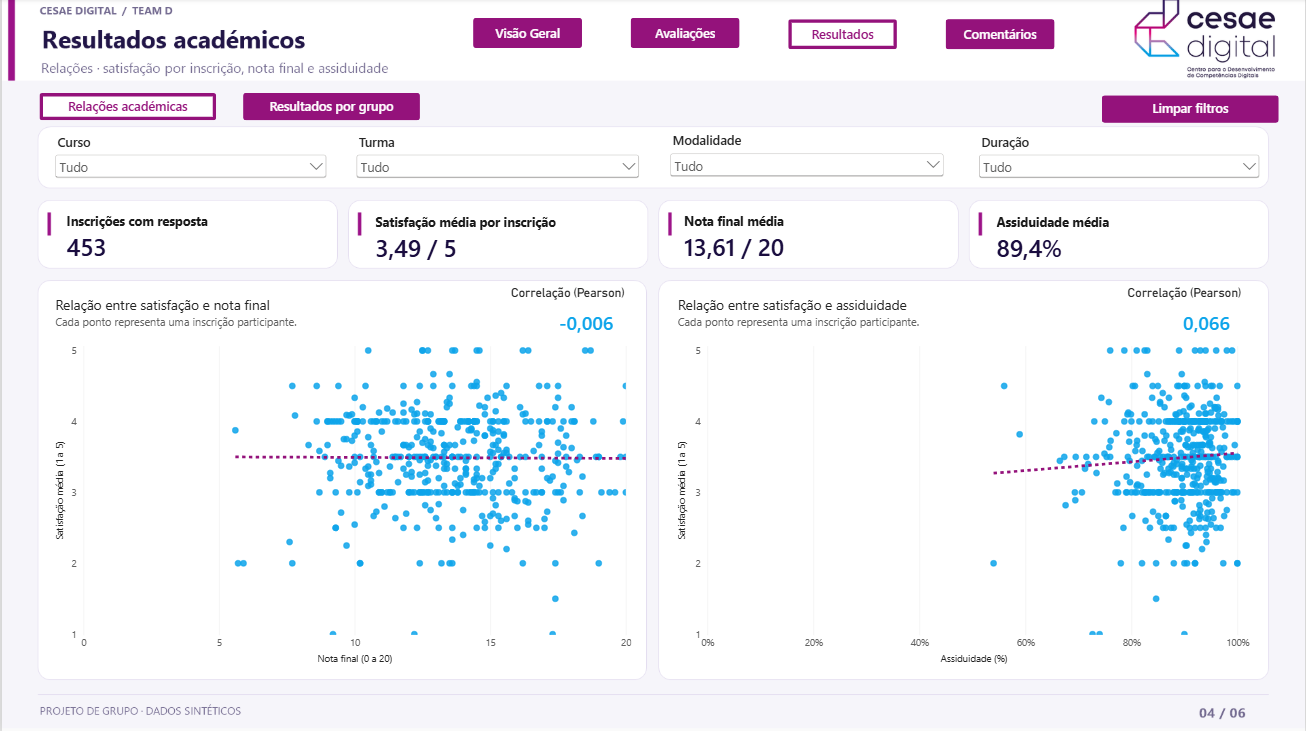

This screenshot's page, from the dashboard's own definition file:
{"tool":"powerbi","page":{"name":"Resultados académicos - Relações","canvas":[1920,1080],"ordinal":3},"visuals":[{"type":"cardVisual","fields":{"Data":["_Medidas_FInscricoes.NInscricoesParticipantes"]},"box":[80,314.3,393.3,76.7],"z":0},{"type":"cardVisual","fields":{"Data":["_Medidas_FInscricoes.SatisfacaoPorInscricao"]},"box":[532.9,315.7,393.3,76.7],"z":1000},{"type":"cardVisual","fields":{"Data":["_Medidas_FInscricoes.NotaFinalMedia"]},"box":[988.6,314.3,392.9,77.1],"z":2000},{"type":"cardVisual","fields":{"Data":["_Medidas_FInscricoes.AssiduidadeMedia"]},"box":[1448.6,317.1,393.3,76.7],"z":3000},{"type":"scatterChart","title":"Relação entre satisfação e nota final","fields":{"Category":["fInscricoes.IDInscrito"],"X":["Sum(fInscricoes.NotaFinal)"],"Y":["Sum(fInscricoes.SatisfacaoInscricao)"]},"box":[62.9,422.9,880,572.9],"z":4000},{"type":"cardVisual","title":"Correlação (Pearson)","fields":{"Data":["_Medidas_FInscricoes.PearsonNota"]},"box":[665.7,422.9,250,70],"z":5000},{"type":"scatterChart","title":"Relação entre satisfação e assiduidade","fields":{"Category":["fInscricoes.IDInscrito"],"X":["Sum(fInscricoes.AssiduidadeGlobal)"],"Y":["Sum(fInscricoes.SatisfacaoInscricao)"]},"box":[978.6,422.9,878.6,572.9],"z":6000},{"type":"cardVisual","title":"Correlação (Pearson)","fields":{"Data":["_Medidas_FInscricoes.PearsonAssiduidade"]},"box":[1580,422.9,245,69.6],"z":7000},{"type":"slicer","fields":{"Values":["dTurma.Curso"]},"box":[72.9,198.6,409,69.5],"z":8000},{"type":"slicer","title":"Duração","fields":{"Values":["dTurma.Categoria_Duracao"]},"box":[1434.3,198.6,422.9,69.5],"z":9000},{"type":"slicer","fields":{"Values":["dTurma.Modalidade"]},"box":[978.6,197.1,412.1,67.9],"z":10000},{"type":"actionButton","title":"Limpar filtros","box":[1620,144,260,40],"z":11000},{"type":"slicer","fields":{"Values":["dTurma.Turma"]},"box":[517.1,198.6,426,67.9],"z":12000},{"type":"actionButton","box":[694.1,30,160,44],"z":13000},{"type":"actionButton","box":[926.3,30,160,44],"z":14000},{"type":"actionButton","box":[1158.2,30.8,160,44],"z":15000},{"type":"actionButton","box":[1389.8,30.8,160,44],"z":16000},{"type":"actionButton","title":"Limpar filtros","box":[355,140,260,40],"z":17000},{"type":"actionButton","box":[55,140,260,40],"z":18000}]}

Visuals, with their boxes in screenshot pixels (x1, y1, x2, y2), scaled from the page's 1920x1080 canvas onto the 1306x731 screenshot:
cardVisual - _Medidas_FInscricoes.NInscricoesParticipantes: [x1=54, y1=213, x2=322, y2=265]
cardVisual - _Medidas_FInscricoes.SatisfacaoPorInscricao: [x1=362, y1=214, x2=630, y2=266]
cardVisual - _Medidas_FInscricoes.NotaFinalMedia: [x1=672, y1=213, x2=940, y2=265]
cardVisual - _Medidas_FInscricoes.AssiduidadeMedia: [x1=985, y1=215, x2=1253, y2=267]
"Relação entre satisfação e nota final" scatterChart: [x1=43, y1=286, x2=641, y2=674]
"Correlação (Pearson)" cardVisual: [x1=453, y1=286, x2=623, y2=334]
"Relação entre satisfação e assiduidade" scatterChart: [x1=666, y1=286, x2=1263, y2=674]
"Correlação (Pearson)" cardVisual: [x1=1075, y1=286, x2=1241, y2=333]
slicer - dTurma.Curso: [x1=50, y1=134, x2=328, y2=181]
"Duração" slicer: [x1=976, y1=134, x2=1263, y2=181]
slicer - dTurma.Modalidade: [x1=666, y1=133, x2=946, y2=179]
"Limpar filtros" actionButton: [x1=1102, y1=97, x2=1279, y2=125]
slicer - dTurma.Turma: [x1=352, y1=134, x2=642, y2=180]
actionButton: [x1=472, y1=20, x2=581, y2=50]
actionButton: [x1=630, y1=20, x2=739, y2=50]
actionButton: [x1=788, y1=21, x2=897, y2=51]
actionButton: [x1=945, y1=21, x2=1054, y2=51]
"Limpar filtros" actionButton: [x1=241, y1=95, x2=418, y2=122]
actionButton: [x1=37, y1=95, x2=214, y2=122]
